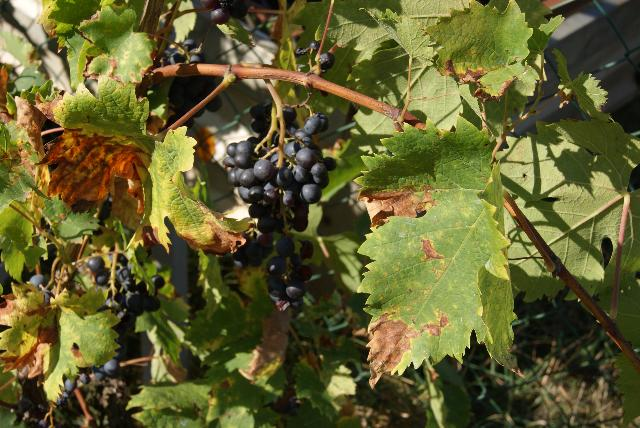grapes: (224, 108, 336, 311)
